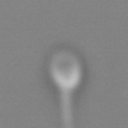normal: (50, 90, 86, 128)
